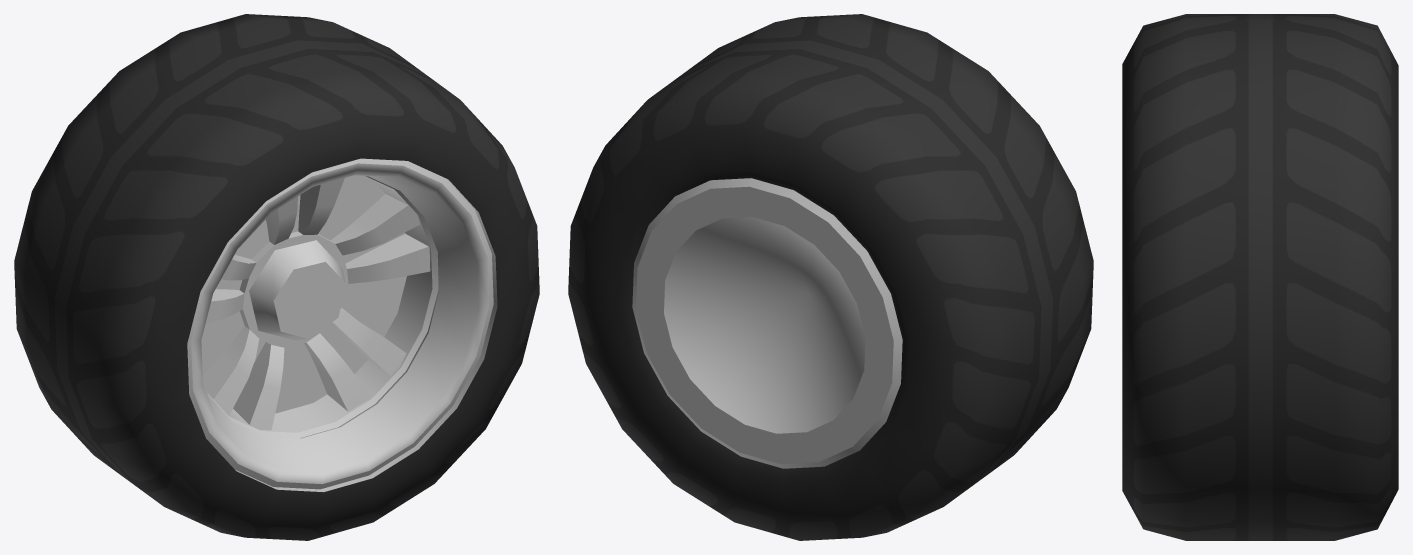
The model's file is Wheel_14.fbx.
3 renders of one model, left to right at view 1: azimuth 30°, elevation 25°; view 2: azimuth 150°, elevation 25°; view 3: azimuth 270°, elevation 25°, orthographic. The views are drawn at different scales.
Visible parts, largest first — view 1: Wheel_14; view 2: Wheel_14; view 3: Wheel_14.
Boxes of the visible parts, x1,y1,x2,y2 form: Wheel_14: (14,14,539,540); Wheel_14: (568,14,1093,540); Wheel_14: (1122,14,1398,540).
Size of the model in its own units: 94.98 by 49.99 by 94.98.
